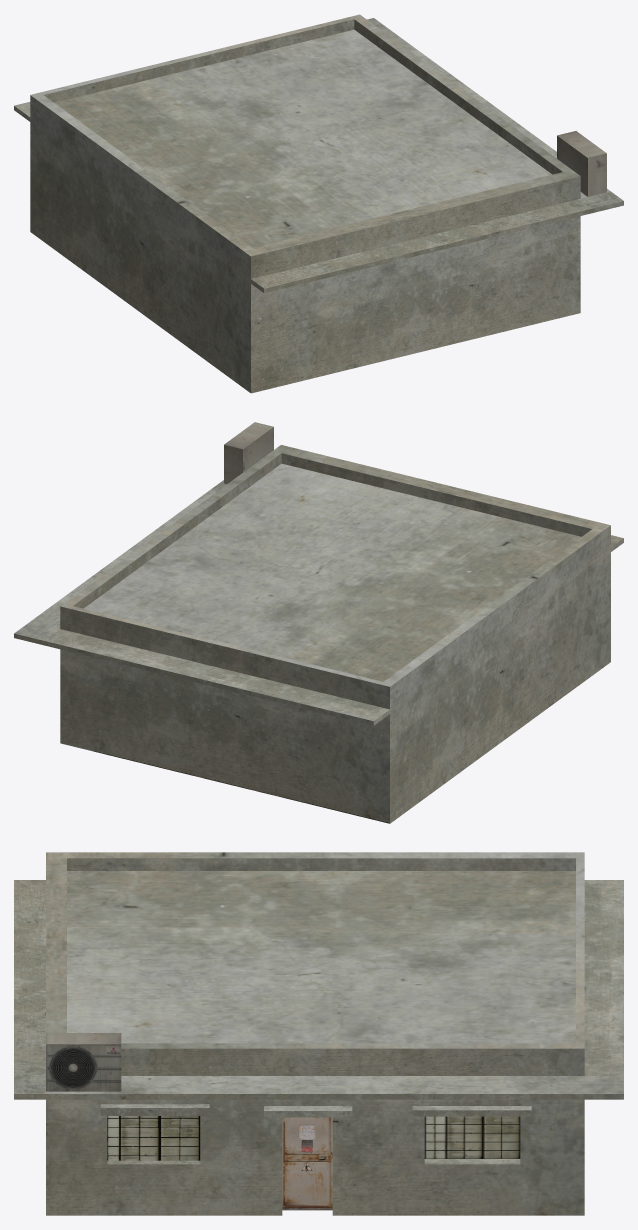
The picture shows the model from 3 angles, top to bottom: view 1: azimuth 30°, elevation 25°; view 2: azimuth 150°, elevation 25°; view 3: azimuth 270°, elevation 25°; orthographic projection. The views are drawn at different scales.
Parts seen in each view (by area): view 1: Model; view 2: Model; view 3: Model.
Boxes of the visible parts, <box> form: Model: <box>14,14,623,393</box>; Model: <box>14,422,623,823</box>; Model: <box>14,852,623,1215</box>.
Bounding box in the file's own units: 1122 × 456 × 1350.
